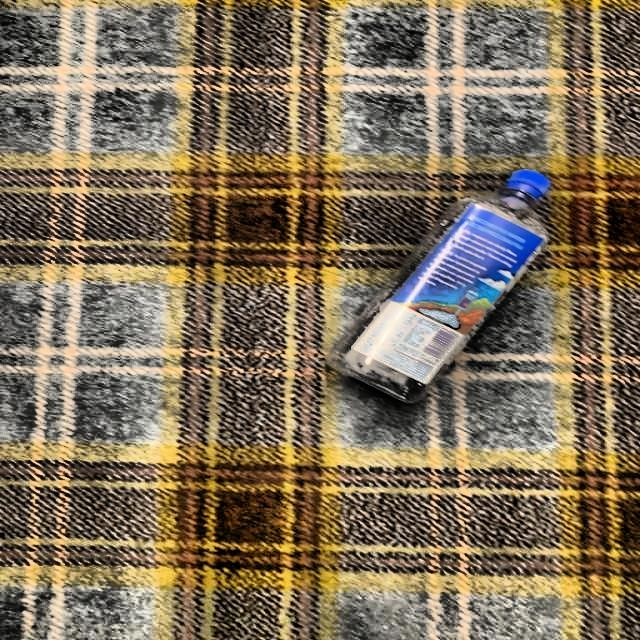plastic bottle: (330, 170, 551, 404)
